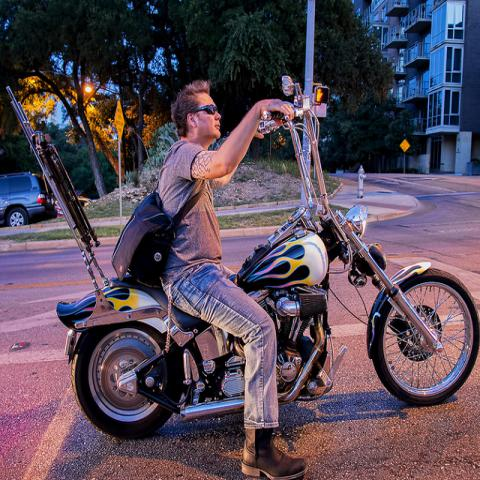car: (0, 173, 56, 226), (78, 197, 92, 207)
motorcycle: (55, 70, 480, 436)
